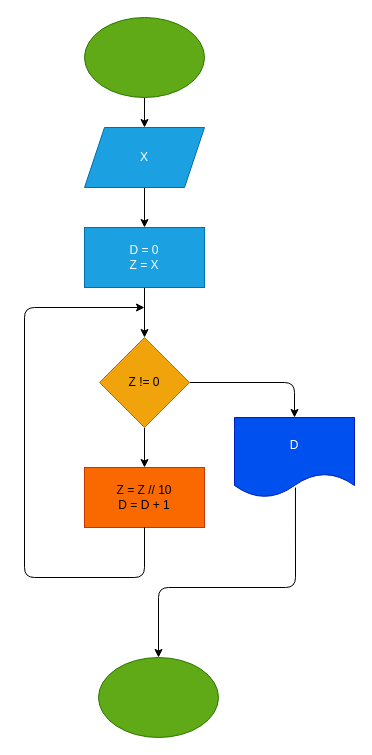
This 372x755 diagram has some shape labels left out. Each missing label, with the centre of its shape:
FIN: [158,697]
INCIO: [144,57]
